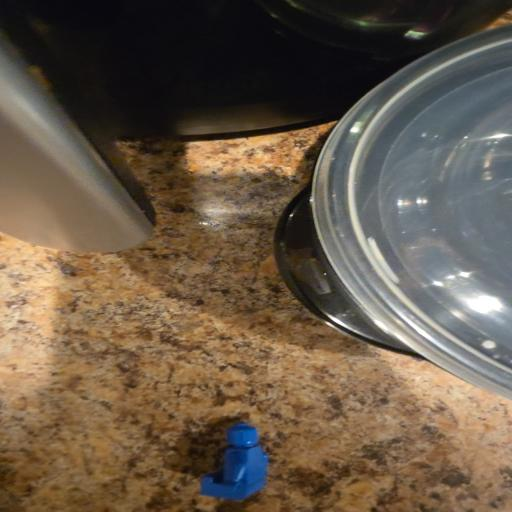Blue: (200, 423, 268, 500)
